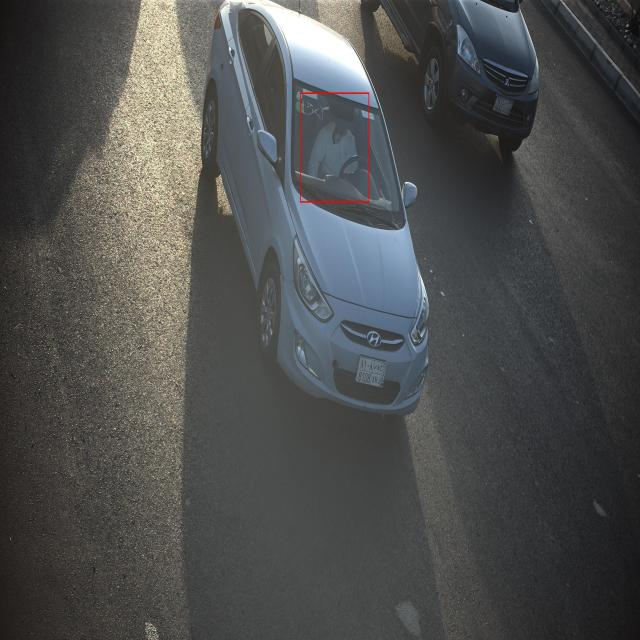windshield: (288, 76, 407, 233)
